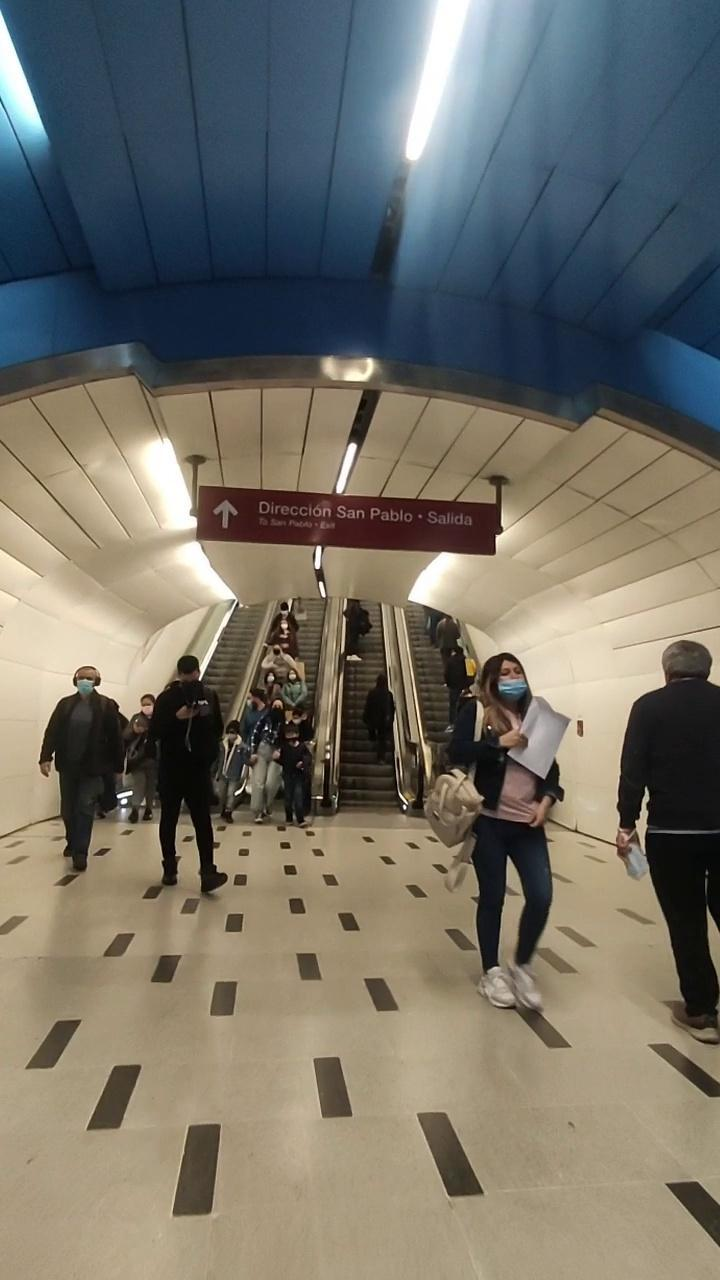up arrow: (210, 498, 240, 530)
